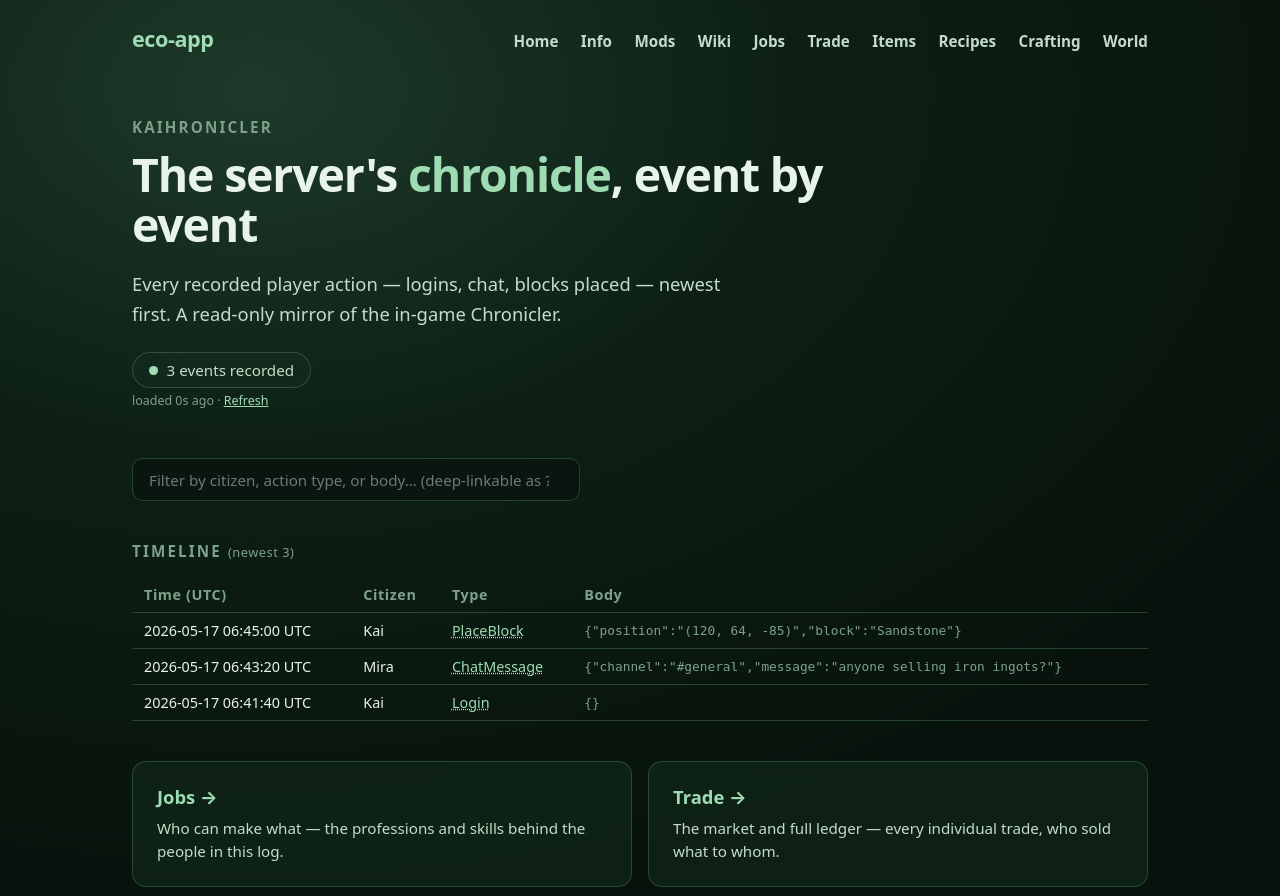
Test: Replay › pushes an action-type cell click into the filter
This screenshot has width=1280, height=896.
Expected: the number of rows with test id "replay-row" is 3, [132, 612, 1148, 648]; [132, 648, 1148, 684]; [132, 684, 1148, 720]
Click the button "Login" at (471, 702), box [452, 693, 490, 712]
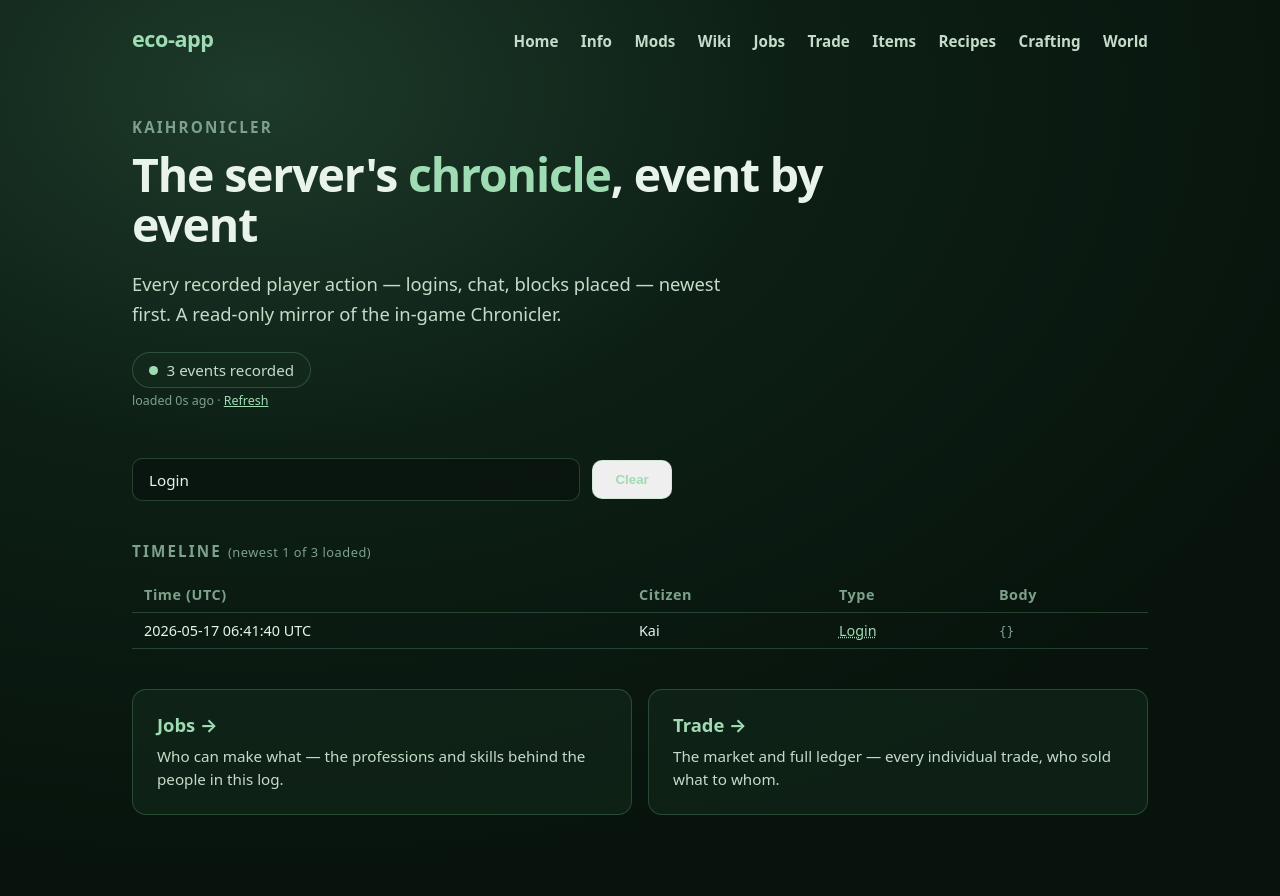
Now the search field with test id "replay-filter" holds "Login", box [132, 458, 580, 501]
Now the number of rows with test id "replay-row" is 1, box [132, 612, 1148, 648]
